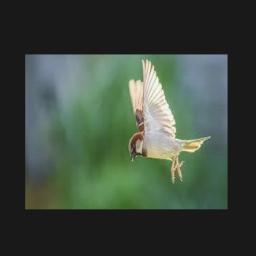Sparrow: (127, 59, 211, 183)
